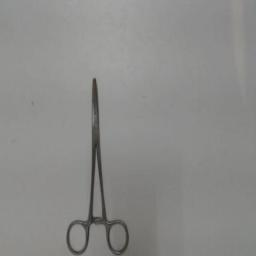Crile Artery Forceps: (62, 70, 130, 254)
